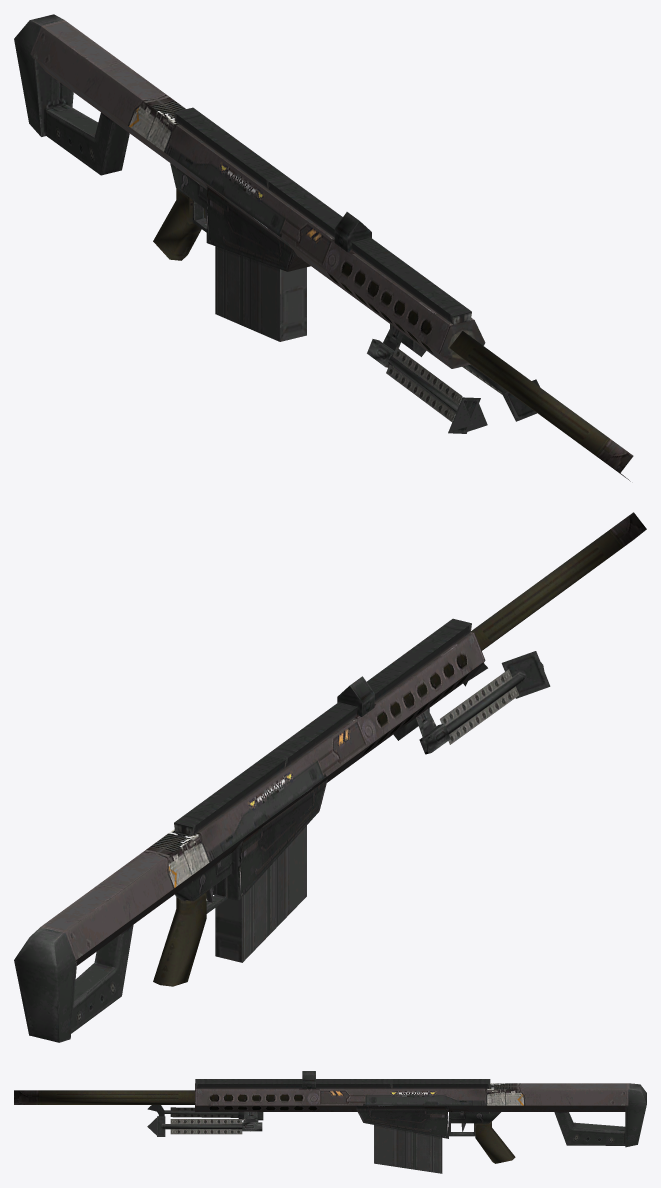
File: Sniper_Rifle_jjq_01_lod2_LOD_(000779).glb
3 renders of one model, top to bottom at view 1: azimuth 30°, elevation 25°; view 2: azimuth 150°, elevation 25°; view 3: azimuth 270°, elevation 25°, orthographic. The views are drawn at different scales.
Parts seen in each view (by area): view 1: jjq_01_lod2; view 2: jjq_01_lod2; view 3: jjq_01_lod2.
Part boxes in pixels (x1=…): jjq_01_lod2: x1=14, y1=14, x2=633, y2=481; jjq_01_lod2: x1=14, y1=512, x2=646, y2=1042; jjq_01_lod2: x1=14, y1=1071, x2=646, y2=1173.
Size of the model in its own units: 0.1763 by 0.3035 by 1.76.
Materials: 1 (1 with a texture image).
